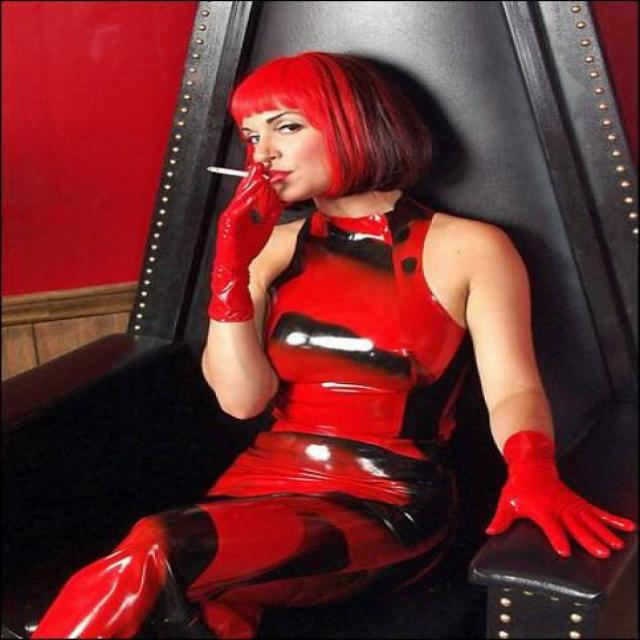Сигарета: (205, 166, 252, 178)
Тело: (88, 51, 556, 640)
